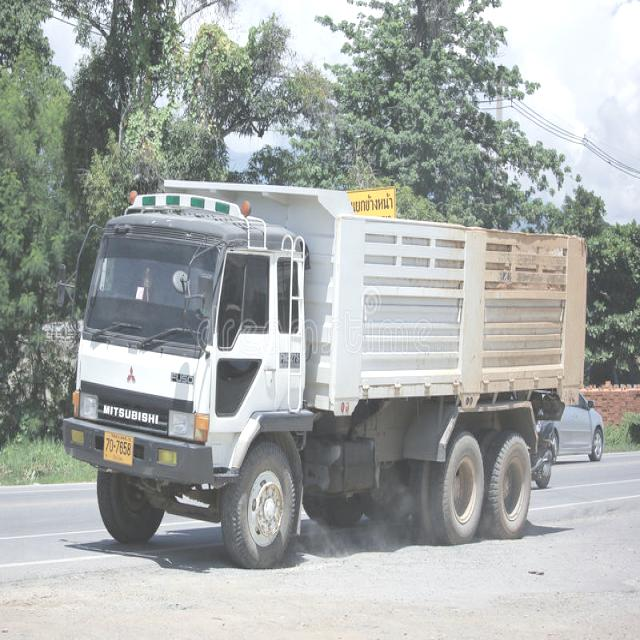truck: (60, 175, 585, 567)
